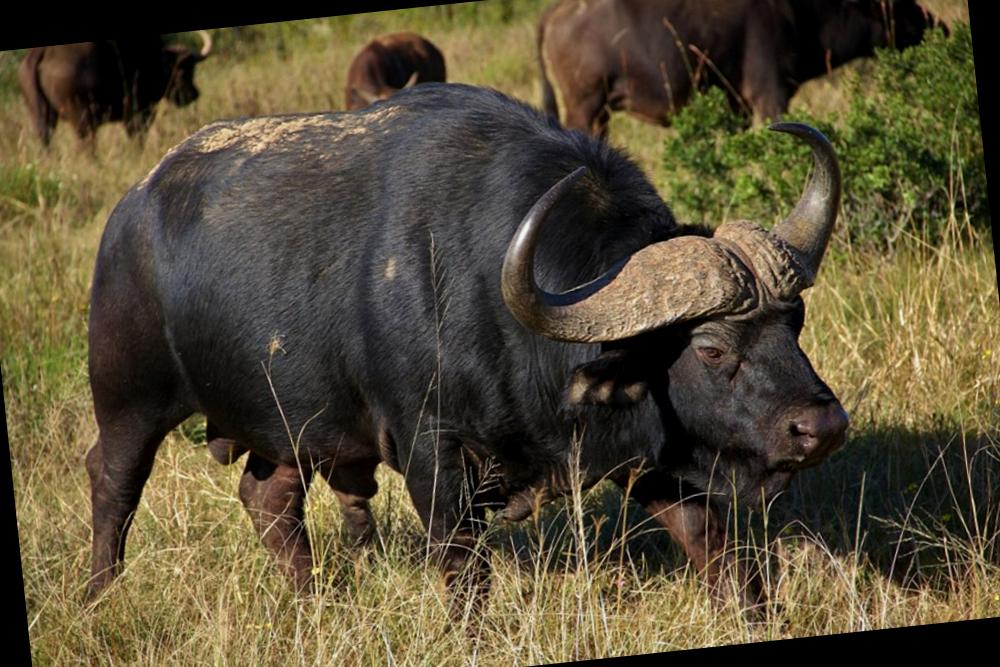Buffalo: (0, 51, 929, 667)
